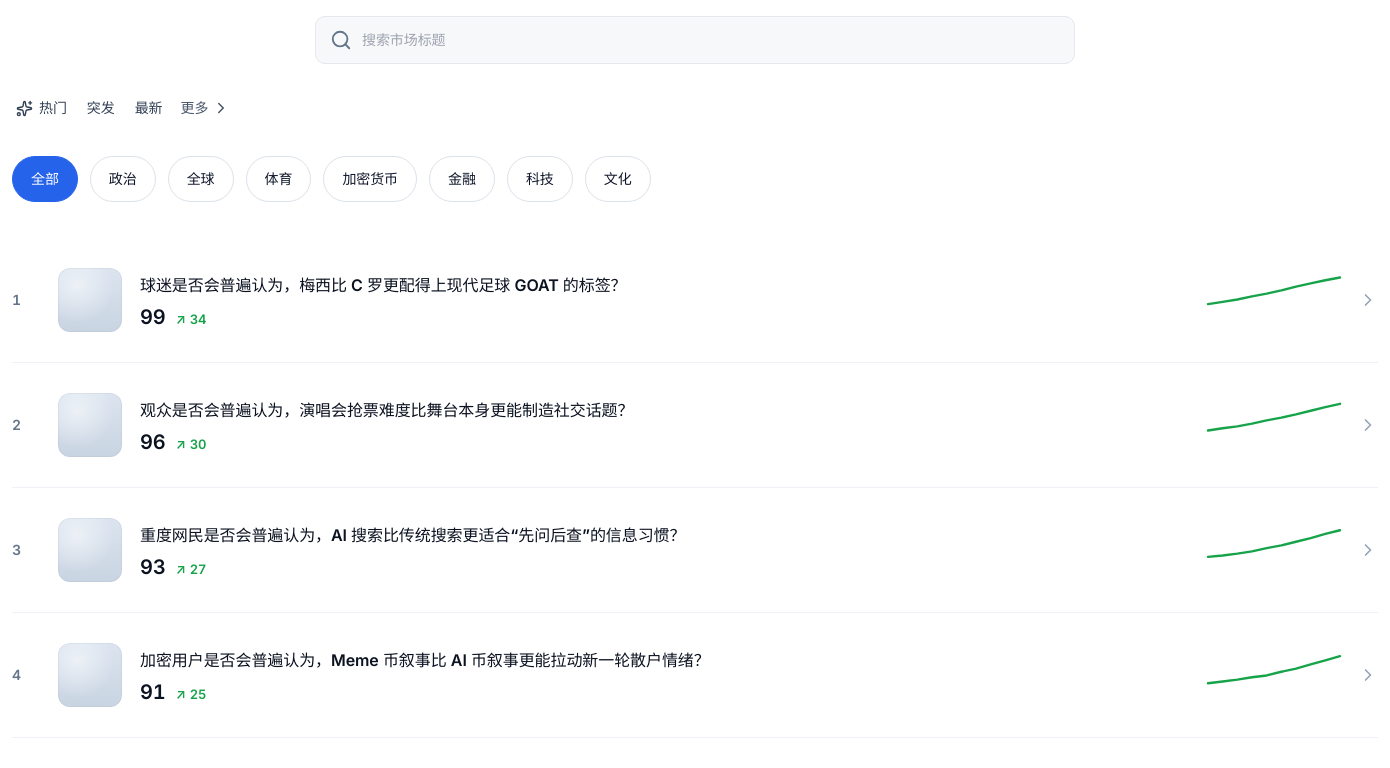
MarketRankingPage › shows an empty-state message when the search query has no matches
Type "__no-such-market__" into the search field.
click(711, 40); type("__no-such-market__")  # box [362,29,1060,51]
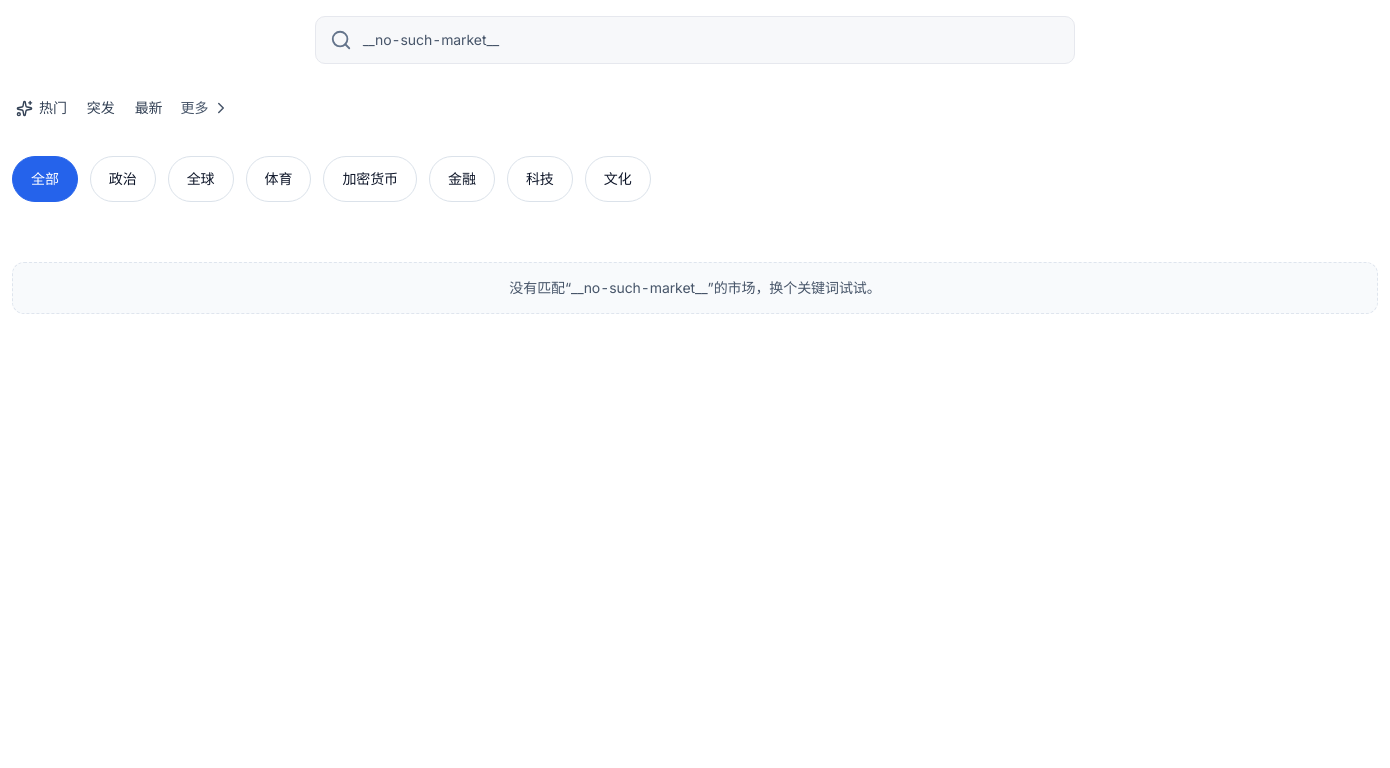
Expected: the message shows "没有匹配", [509,279,571,296]
